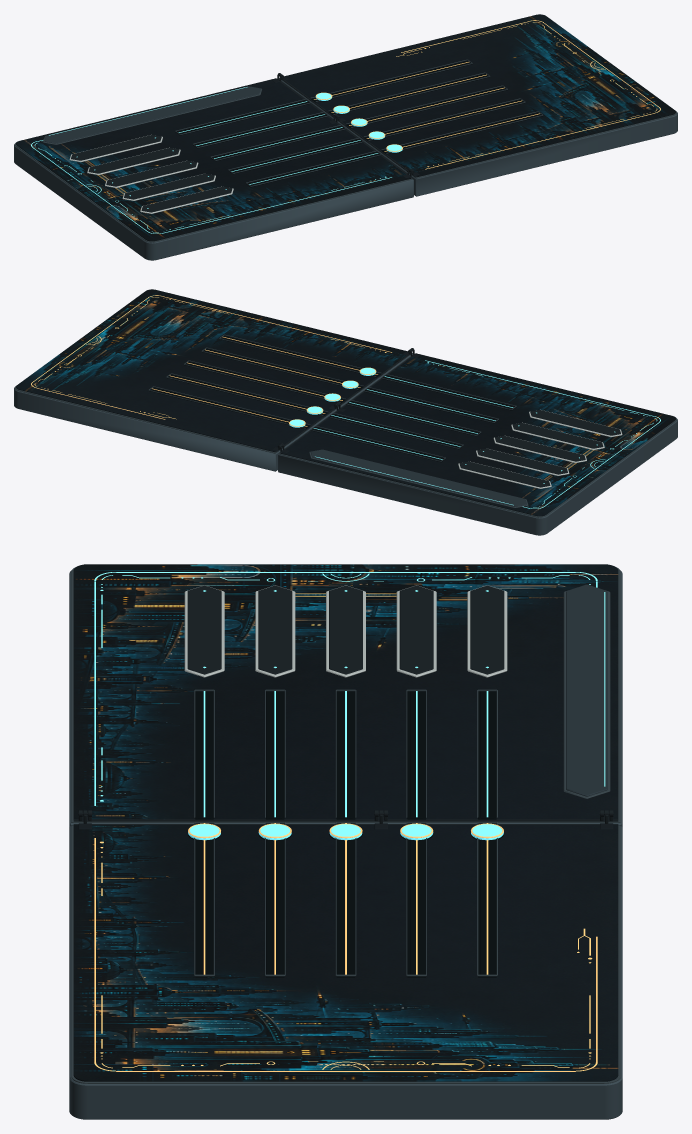
Rendered from human-balance.glb.
3 renders of one model, top to bottom at view 1: azimuth 30°, elevation 25°; view 2: azimuth 150°, elevation 25°; view 3: azimuth 270°, elevation 25°, orthographic. The views are drawn at different scales.
Parts seen in each view (by area): view 1: HousingFaceRight, HousingFaceLeft, HousingBodyLeft, HousingBodyRight, TitlePlaqueLeft, LabelFace_responsibility, LabelFace_comfort, LabelFace_freedom, LabelFace_connection, LabelFace_control, HousingFrontBezelLeft, HousingFrontBezelRight (+11 smaller); view 2: HousingFaceRight, HousingFaceLeft, HousingBodyLeft, HousingBodyRight, TitlePlaqueLeft, LabelFace_comfort, LabelFace_control, LabelFace_responsibility, LabelFace_connection, LabelFace_freedom, HousingFrontBezelLeft, HousingFrontBezelRight (+11 smaller); view 3: HousingFaceRight, HousingFaceLeft, HousingBodyRight, TitlePlaqueLeft, HousingFrontBezelRight, LabelFace_comfort, LabelFace_responsibility, LabelFace_control, LabelFace_freedom, LabelFace_connection, HousingFrontBezelLeft, HousingBodyLeft (+20 smaller).
Boxes of the visible parts, x1,y1,x2,y2 form: HousingFaceRight: (284,14,675,177); HousingFaceLeft: (16,78,410,241); HousingBodyLeft: (14,144,413,260); HousingBodyRight: (279,78,677,196); TitlePlaqueLeft: (44,86,260,143); LabelFace_responsibility: (141,186,232,212); LabelFace_comfort: (71,135,161,160); LabelFace_freedom: (124,173,214,199); LabelFace_connection: (106,160,196,186); LabelFace_control: (88,148,179,173); HousingFrontBezelLeft: (15,141,412,242); HousingFrontBezelRight: (281,79,676,178); HousingFaceRight: (16,289,407,452); HousingFaceLeft: (281,353,675,516); HousingBodyLeft: (278,419,677,535); HousingBodyRight: (14,353,412,471); TitlePlaqueLeft: (310,449,526,506); LabelFace_comfort: (459,461,550,487); LabelFace_control: (477,448,567,474); LabelFace_responsibility: (530,410,620,435); LabelFace_connection: (495,435,585,461); LabelFace_freedom: (512,423,603,448); HousingFrontBezelLeft: (279,416,676,517); HousingFrontBezelRight: (15,354,410,453); HousingFaceRight: (73,825,618,1081); HousingFaceLeft: (73,564,618,819); HousingBodyRight: (69,826,622,1119); TitlePlaqueLeft: (566,584,607,796); HousingFrontBezelRight: (71,825,620,1083); LabelFace_comfort: (470,585,504,674); LabelFace_responsibility: (187,585,221,674); LabelFace_control: (399,585,433,674); LabelFace_freedom: (258,585,292,674); LabelFace_connection: (329,585,362,674); HousingFrontBezelLeft: (71,567,620,822); HousingBodyLeft: (69,570,622,826).
Bounding box in the file's own units: 10 × 0.481 × 4.5.
Materials: 15 (1 with a texture image).
